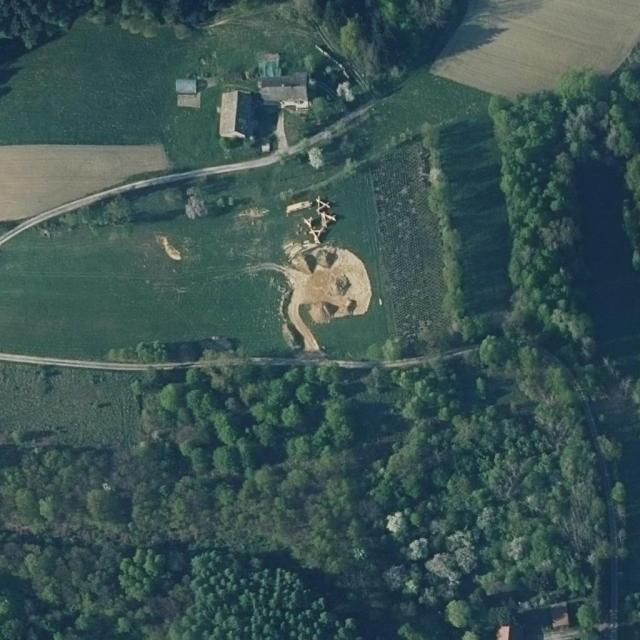agricultural_land: (271, 142, 461, 364), (434, 115, 524, 316), (343, 50, 495, 156), (0, 144, 170, 221), (0, 363, 144, 449)
building: (257, 72, 310, 113), (219, 90, 246, 138), (235, 90, 252, 133), (176, 79, 201, 108), (258, 52, 281, 78), (550, 601, 570, 629), (496, 625, 512, 639)
greenland: (491, 70, 640, 404), (306, 0, 466, 88), (417, 119, 476, 325), (471, 320, 588, 422), (0, 0, 235, 49), (216, 0, 288, 18), (590, 432, 626, 466), (610, 481, 628, 530), (452, 316, 483, 344), (615, 531, 627, 557)
unmetalled_road: (0, 353, 220, 375), (250, 356, 425, 370), (446, 348, 471, 359)
